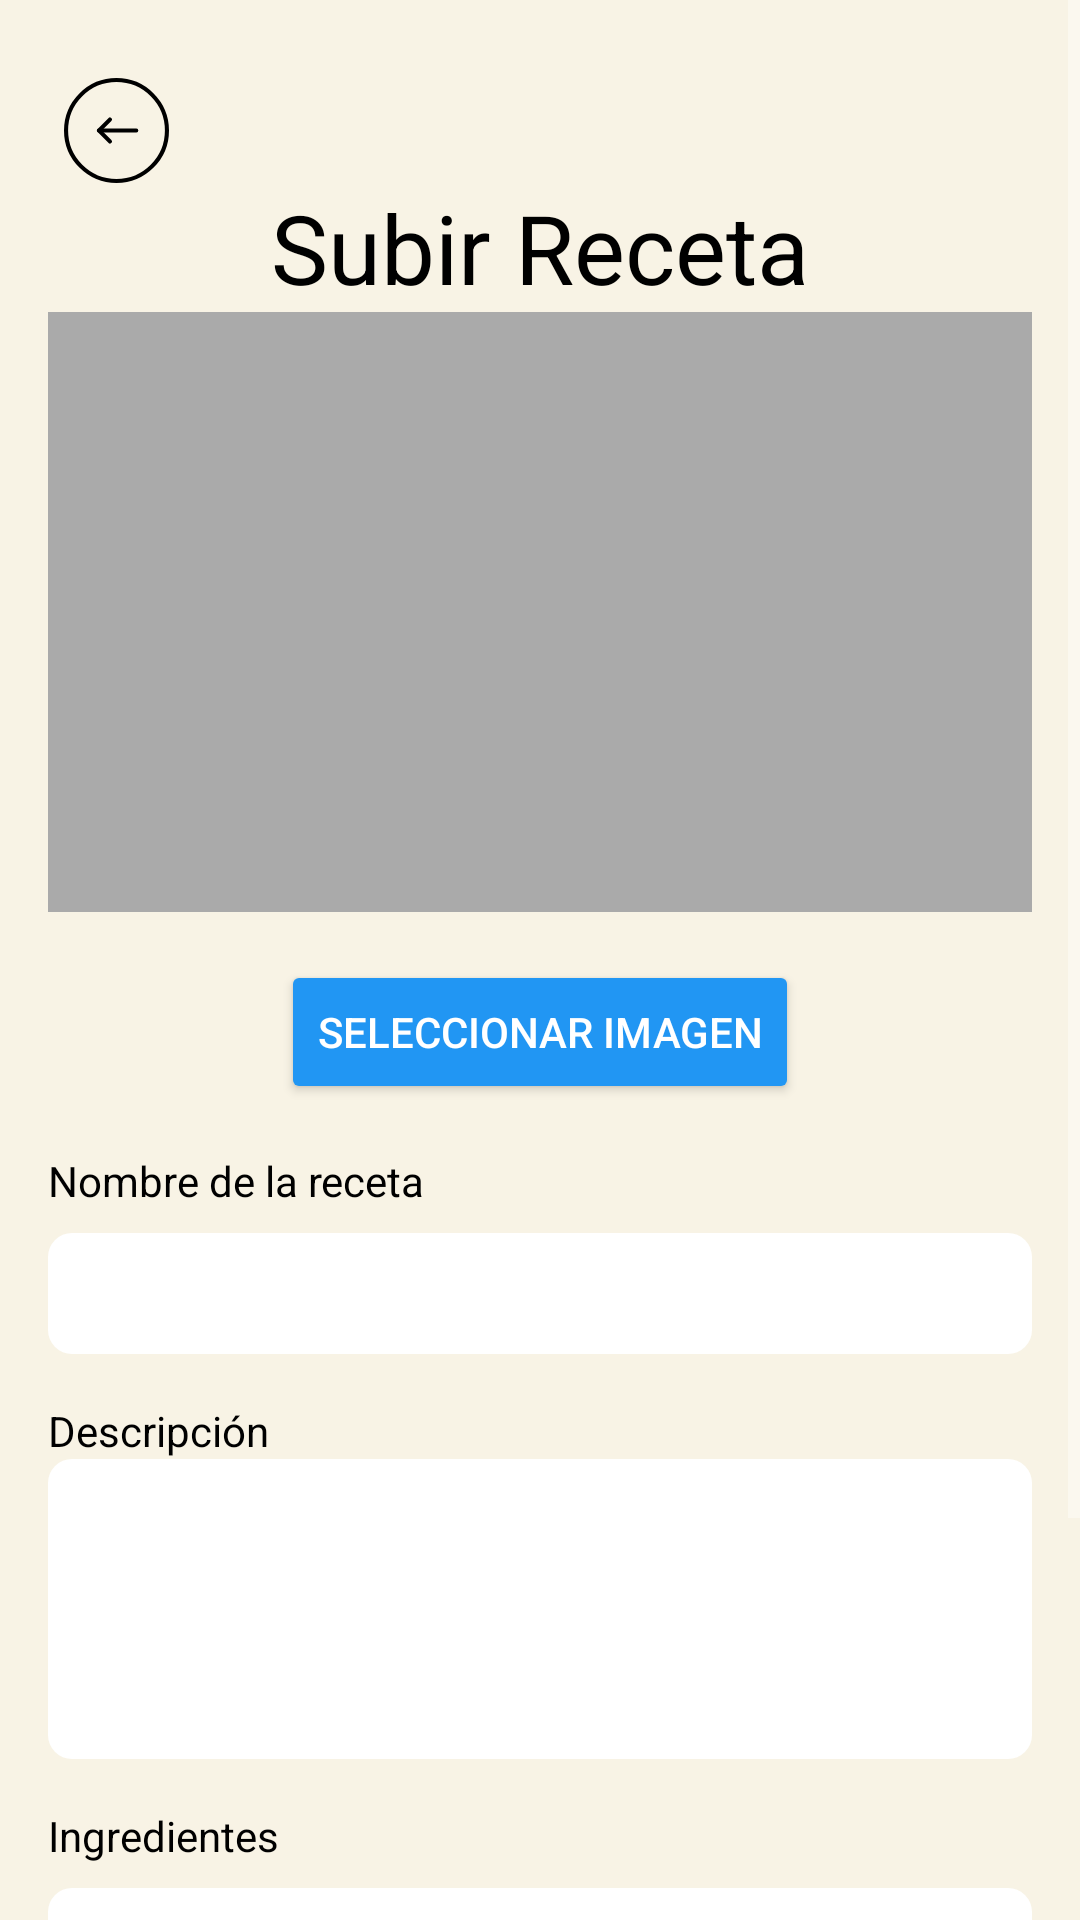

Icons on this 1080*1920 Android screen, each with its box as [x1,y1,x2,y2]:
Regresar: [64,78,169,183]
